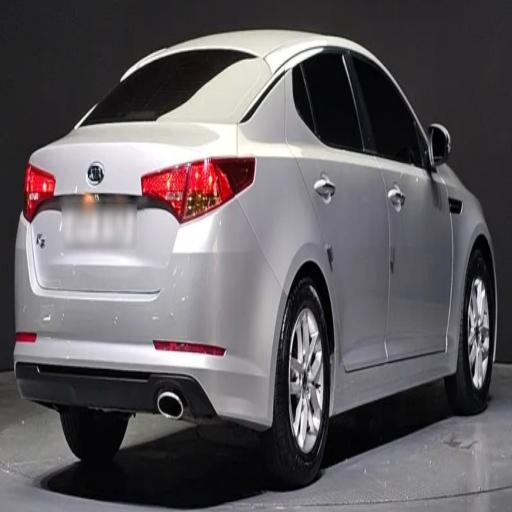normal: (5, 18, 508, 490)
